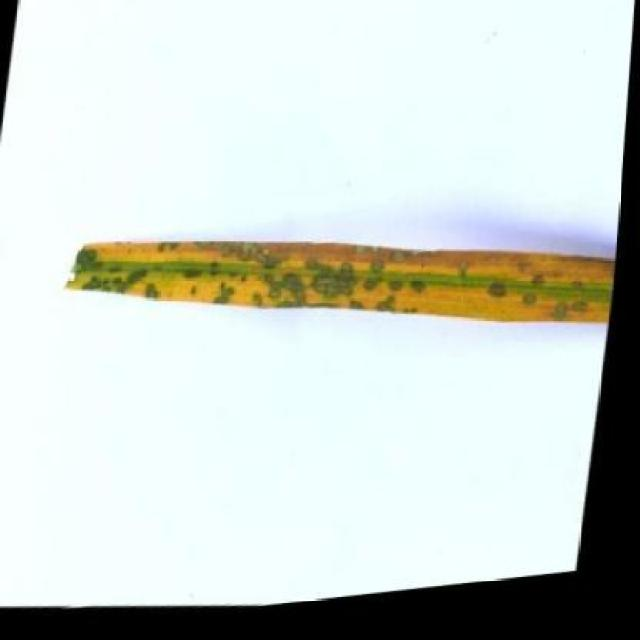Rice False Smut: (70, 245, 621, 339)
